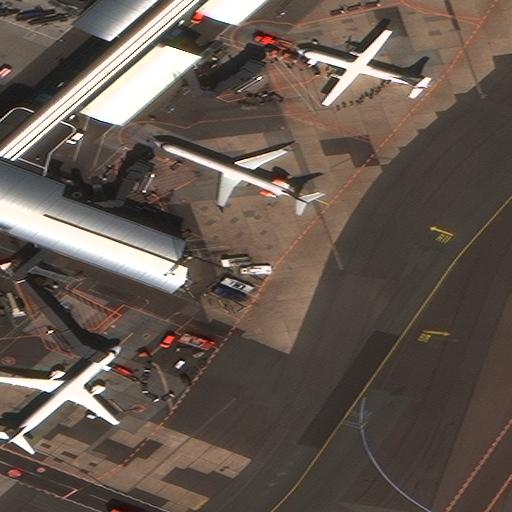Medium Civil Transport: (0, 345, 121, 444), (149, 138, 309, 206), (295, 28, 428, 103)
